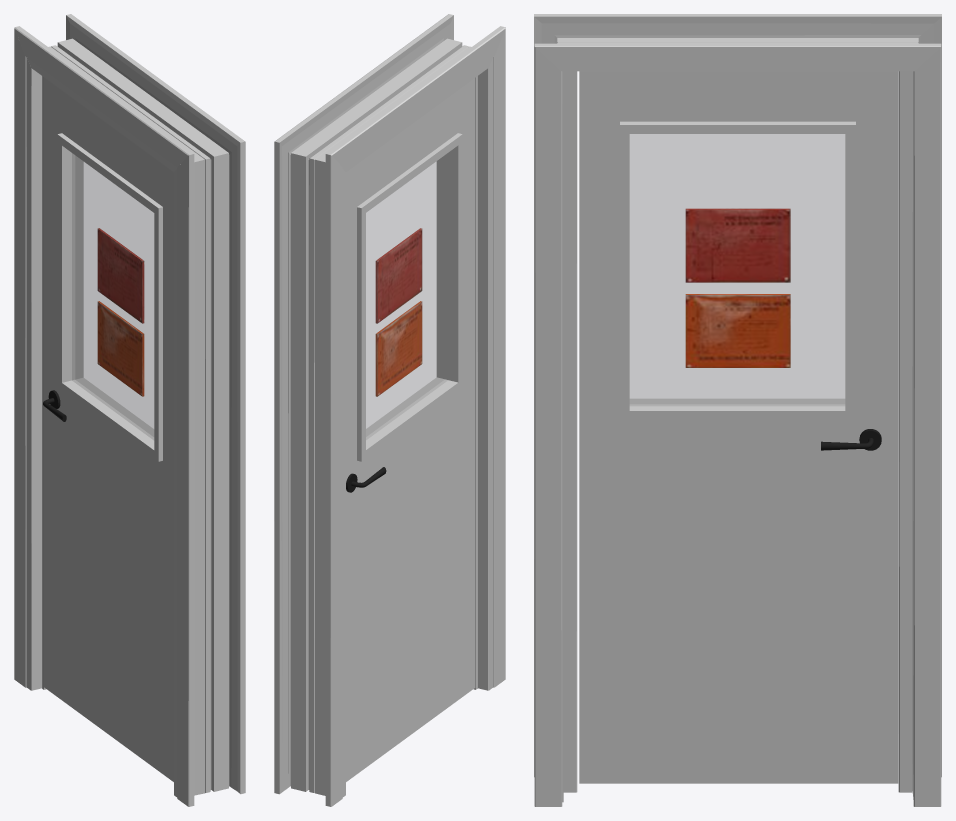
The model's file is Door.FBX.
The picture shows the model from 3 angles, left to right: view 1: azimuth 30°, elevation 25°; view 2: azimuth 150°, elevation 25°; view 3: azimuth 270°, elevation 25°; orthographic projection. The views are drawn at different scales.
Visible parts, largest first — view 1: door, frame door, Picture 1, Picture 2; view 2: door, frame door, Picture 2, Picture 1; view 3: door, frame door, Picture 1, Picture 2.
Boxes of the visible parts, x1=… form: door: x1=43, y1=77, x2=173, y2=781; frame door: x1=14, y1=14, x2=245, y2=806; Picture 1: x1=97, y1=228, x2=144, y2=323; Picture 2: x1=97, y1=301, x2=144, y2=396; door: x1=346, y1=78, x2=475, y2=781; frame door: x1=274, y1=14, x2=505, y2=806; Picture 2: x1=375, y1=301, x2=422, y2=396; Picture 1: x1=375, y1=228, x2=422, y2=323; door: x1=579, y1=71, x2=898, y2=783; frame door: x1=534, y1=14, x2=941, y2=806; Picture 1: x1=685, y1=208, x2=790, y2=282; Picture 2: x1=685, y1=294, x2=790, y2=367.
Bounding box in the file's own units: 10.85 × 111 × 54.1.
4 materials, 1 textured.
